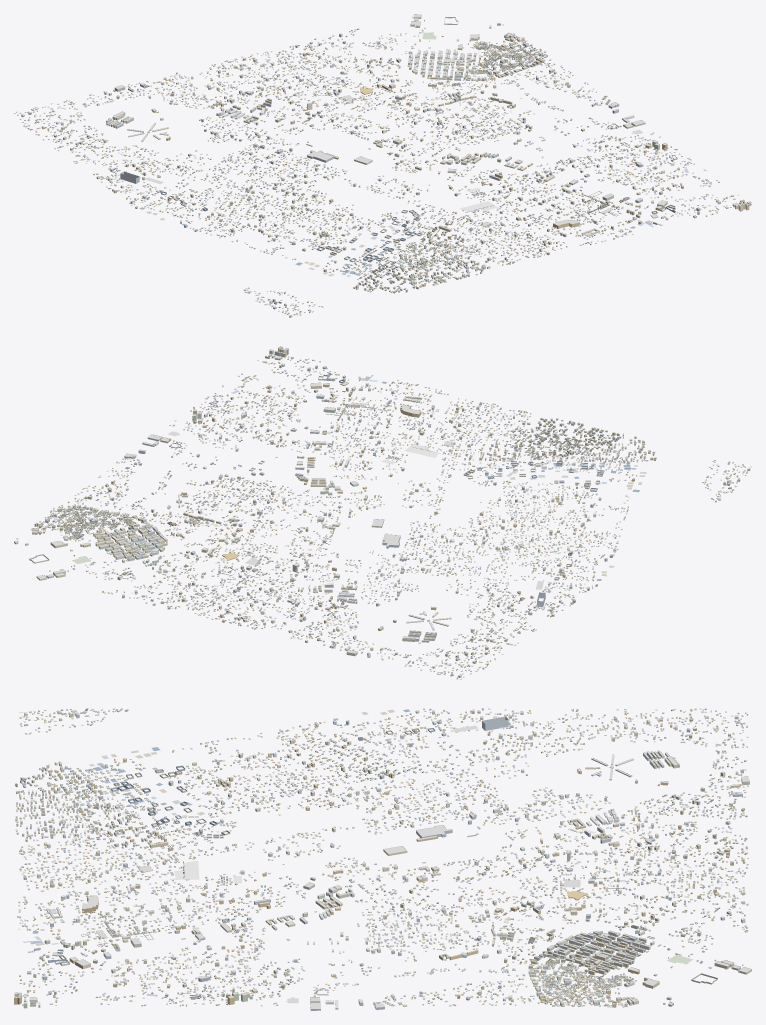
3 views of the same model, one above another, from view 1: azimuth 30°, elevation 25°; view 2: azimuth 150°, elevation 25°; view 3: azimuth 270°, elevation 25° (orthographic). The views are drawn at different scales.
Visible parts, largest first — view 1: house, apartment, roof_zinc, roof_flat, shop, factory; view 2: house, apartment, roof_zinc, roof_flat, shop, factory; view 3: house, apartment, roof_zinc, roof_flat, shop, factory.
Part boxes in pixels (<box>): house: <box>14,17,751,315</box>; apartment: <box>21,14,751,317</box>; roof_zinc: <box>14,23,751,316</box>; roof_flat: <box>22,14,750,315</box>; shop: <box>278,37,677,303</box>; factory: <box>161,17,675,262</box>; house: <box>16,355,749,679</box>; apartment: <box>14,346,750,677</box>; roof_zinc: <box>17,354,751,679</box>; roof_flat: <box>14,346,749,675</box>; shop: <box>78,395,730,581</box>; factory: <box>29,373,604,580</box>; house: <box>17,708,748,1006</box>; apartment: <box>14,709,751,1010</box>; roof_zinc: <box>17,708,748,1006</box>; roof_flat: <box>14,709,751,1008</box>; shop: <box>61,713,704,998</box>; factory: <box>48,728,717,984</box>.
Bounding box in the file's own units: 1.42e+08 × 1786358 × 1.46e+08.
